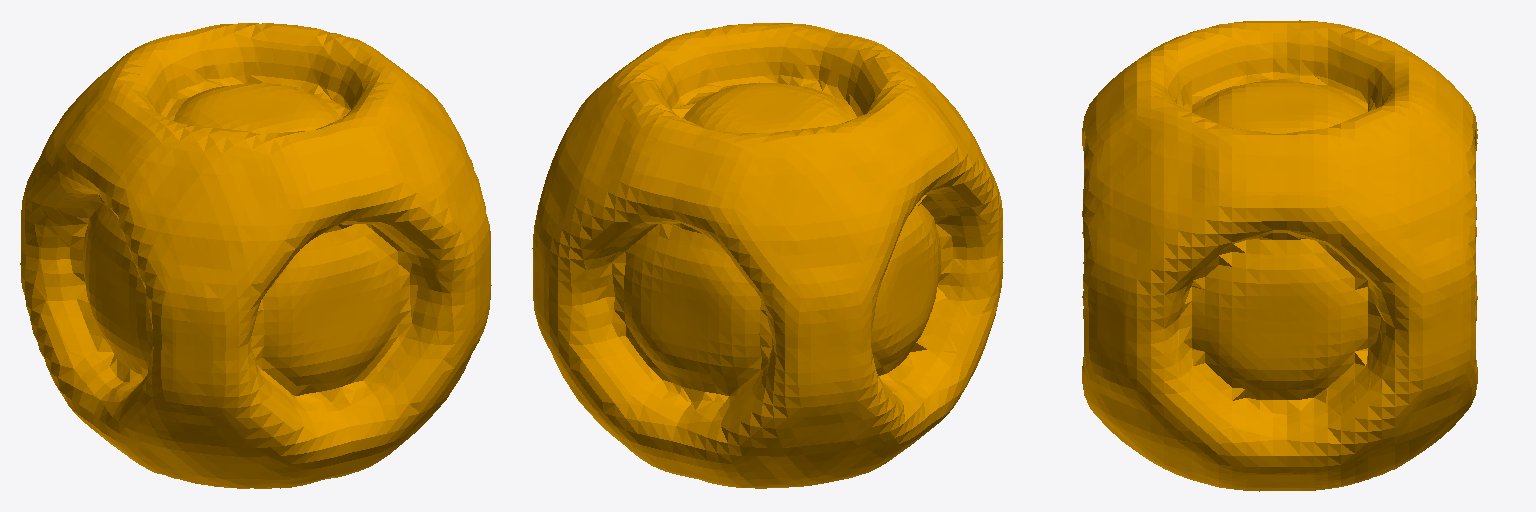
robot.urdf — A16_1:
<?xml version="1.0"?>
<robot name="A16_1">
  <link name="base_link">
    <visual>
      <geometry>
        <mesh filename="../../../../meshes/egad/train/A16_1.obj" />
      </geometry>
    </visual>
  </link>
</robot>

--- What the picture shows (computed from the rendered views, not written in the file) ---
3 views of the same robot in one strip: view 1: azimuth 30°, elevation 25°; view 2: azimuth 150°, elevation 25°; view 3: azimuth 270°, elevation 25° (orthographic).
Robot: A16_1 — 1 links, 0 joints (none); root link base_link; default pose: every joint at zero.
Links seen in each view (by area): view 1: base_link; view 2: base_link; view 3: base_link.
Link boxes in pixels (bbox=[...]): base_link: bbox=[20, 23, 491, 488]; base_link: bbox=[532, 23, 1003, 488]; base_link: bbox=[1082, 20, 1477, 491].
Size in the robot's own frame: 0.06 by 0.0601 by 0.0602 metres.
1 mesh visuals loaded from 1 distinct referenced files (1 OBJ).